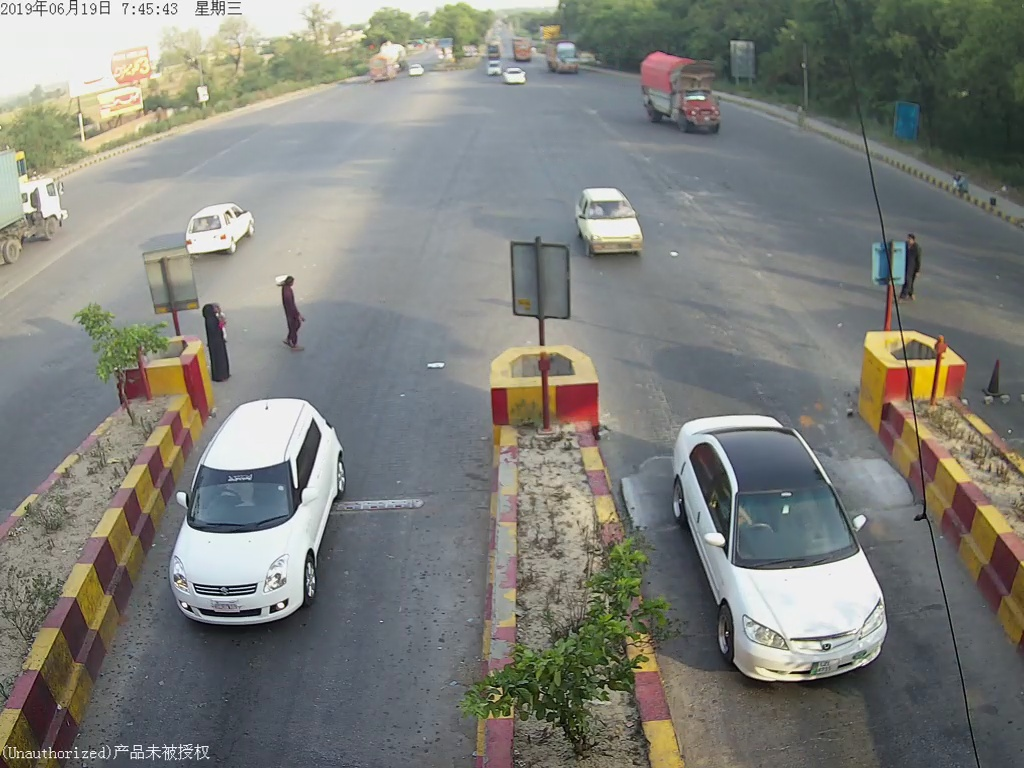Cat-1: (675, 405, 900, 690), (180, 400, 353, 654), (578, 181, 650, 264)
